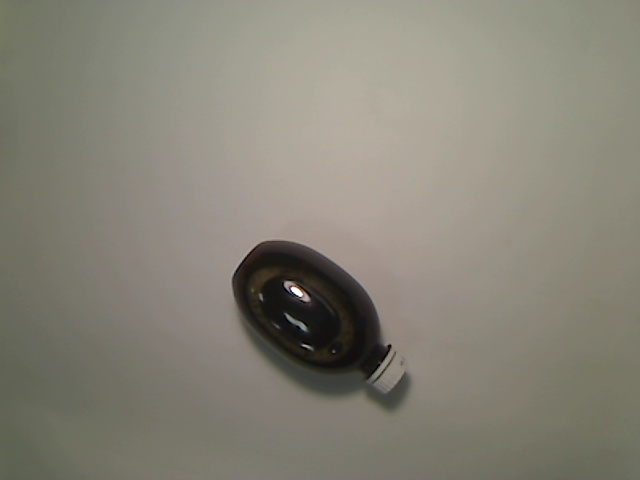plast_bottle: (230, 238, 411, 397)
